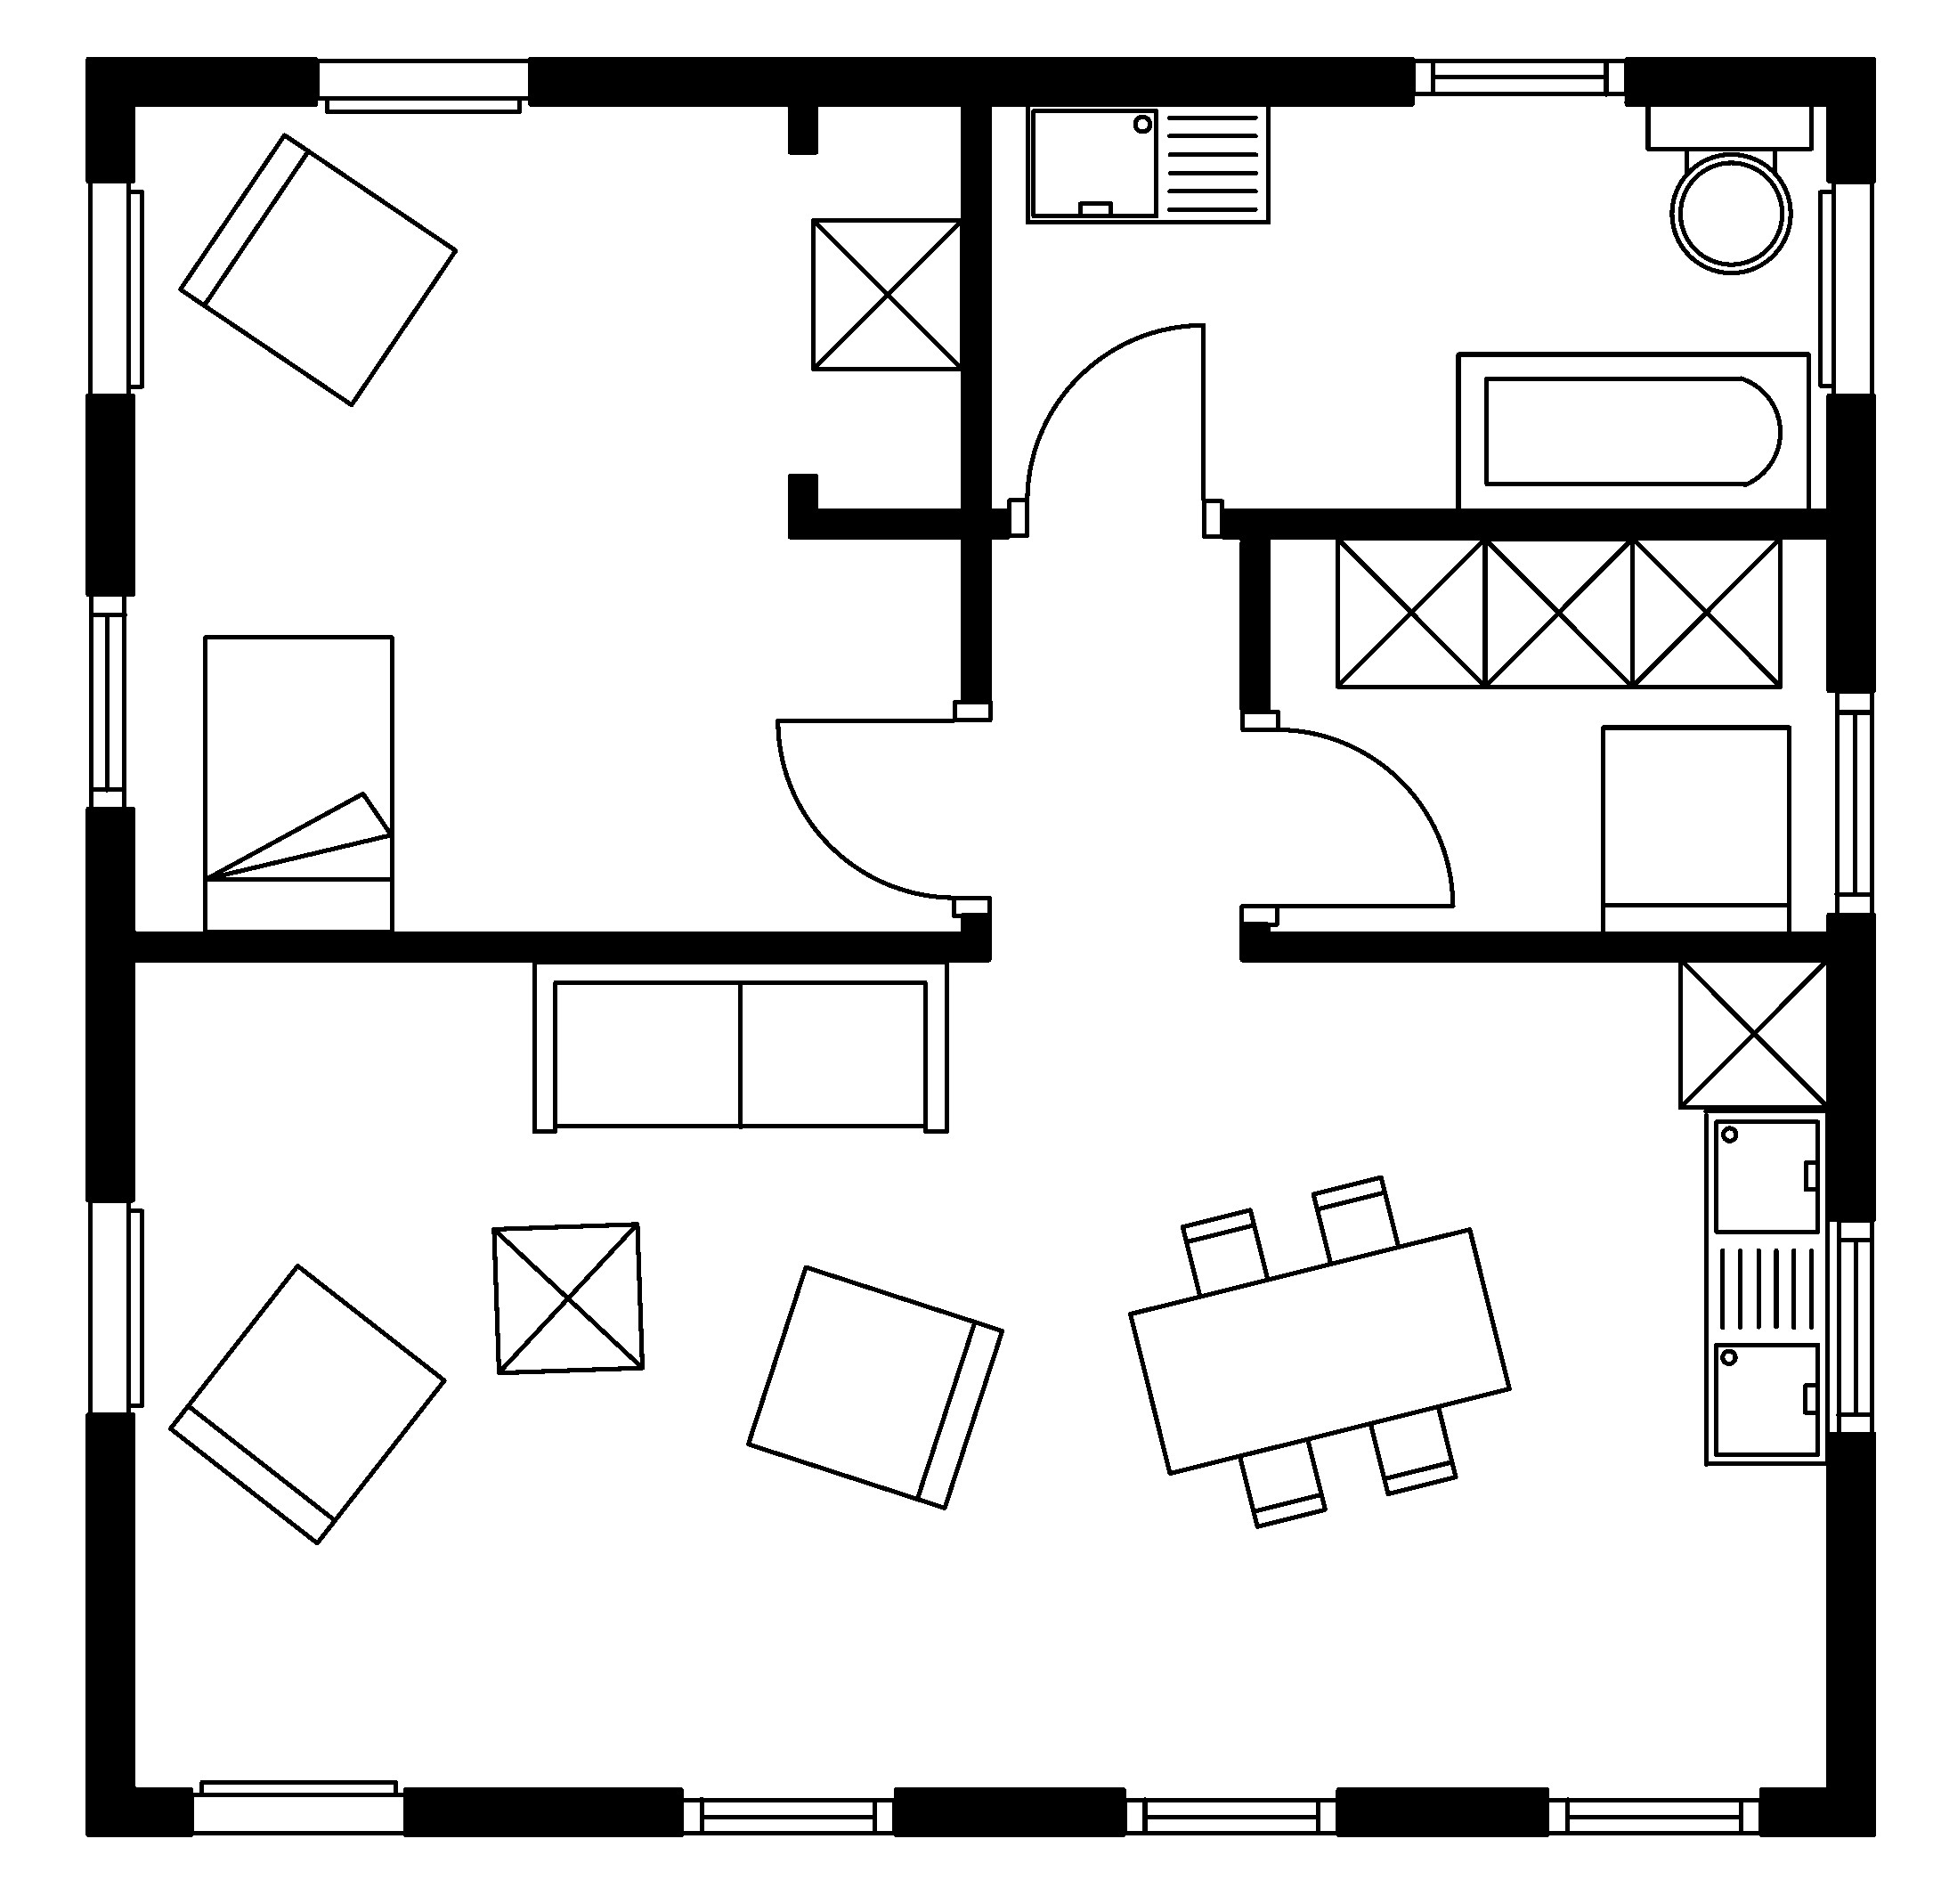bed: (200, 633, 394, 935)
coffee_table: (809, 216, 966, 371), (490, 1221, 645, 1376), (1480, 534, 1635, 689), (1628, 534, 1783, 689), (1333, 534, 1489, 689), (1675, 955, 1830, 1111)
dining_table: (1126, 1173, 1511, 1529)
large_sink: (1644, 101, 1814, 274)
large_sofa: (530, 959, 950, 1135)
sink: (1023, 101, 1271, 225)
small_sofa: (167, 1262, 446, 1547), (176, 131, 458, 408), (744, 1262, 1004, 1512), (1598, 724, 1792, 936)
tub: (1454, 350, 1811, 513)
twin_sink: (1701, 1107, 1830, 1468)
